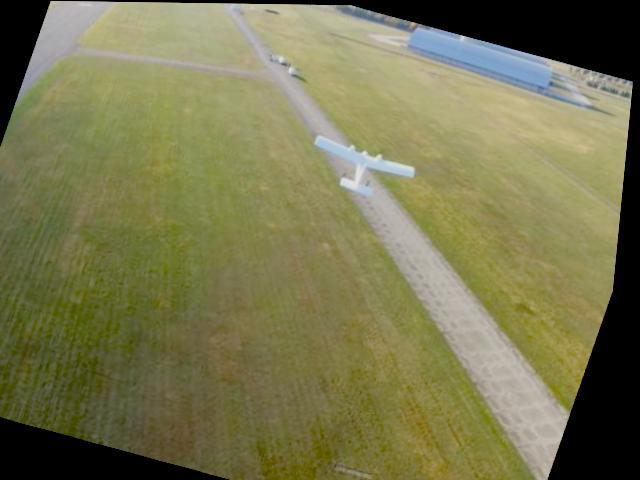uav: (300, 128, 426, 204)
